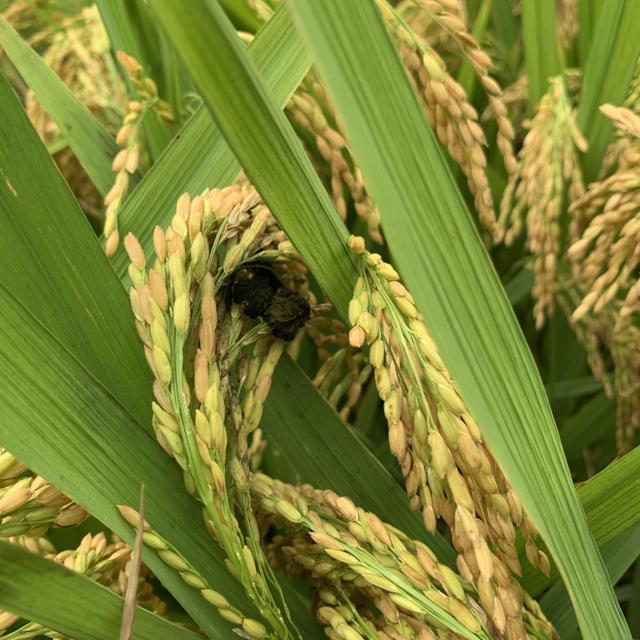Leaf_Scald: (228, 261, 317, 342)
